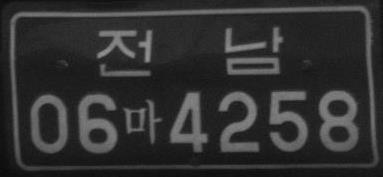0: (29, 92, 68, 153)
2: (217, 90, 260, 152)
4: (170, 91, 208, 153)
5: (268, 89, 308, 152)
6: (76, 92, 118, 155)
8: (316, 88, 359, 151)
마: (122, 98, 161, 144)
전남_D: (97, 26, 284, 78)
